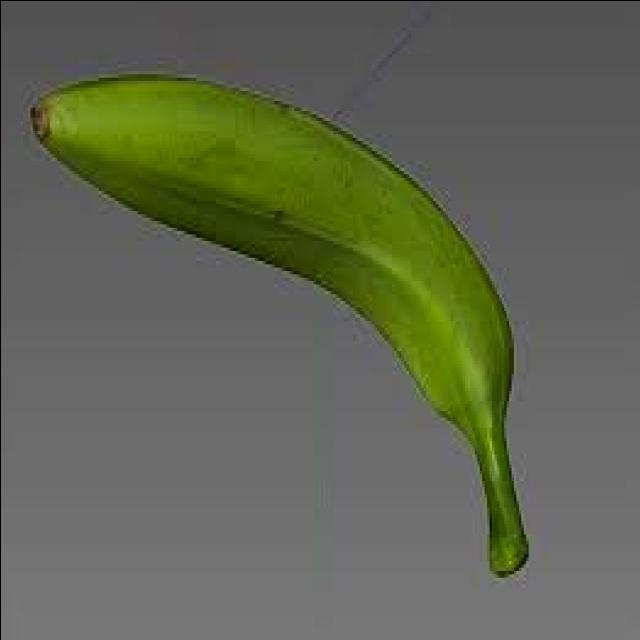agrume: (24, 75, 527, 582)
